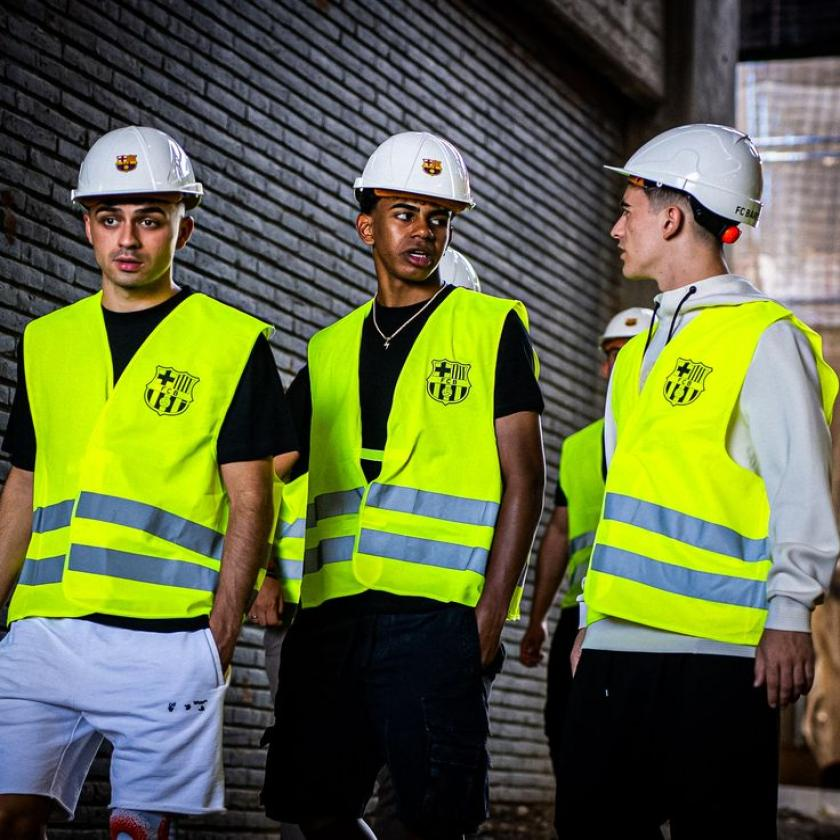Con_casco: (577, 91, 795, 305), (312, 112, 493, 296), (73, 93, 217, 299)
